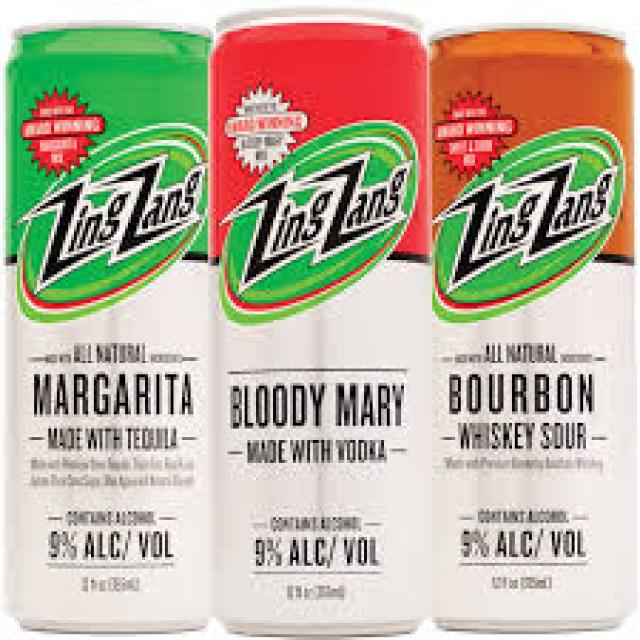Cans: (202, 3, 438, 637), (421, 15, 640, 634), (6, 17, 222, 634)
